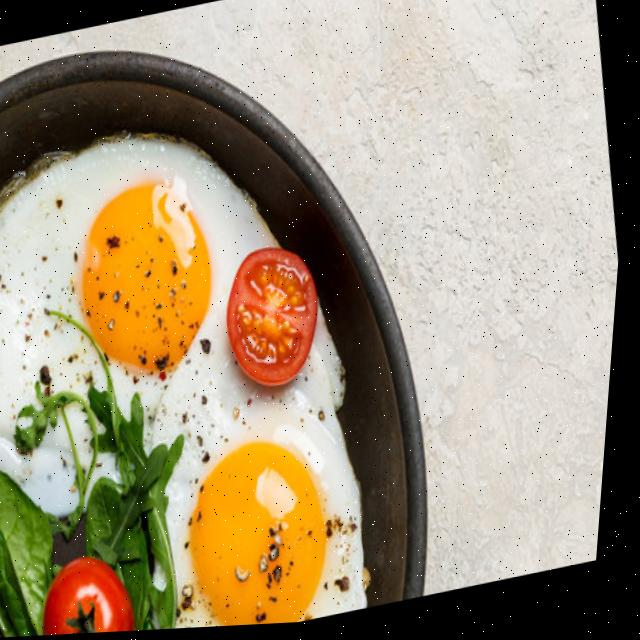Egg: (0, 139, 280, 439), (176, 320, 379, 631)
